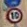limite 10: (5, 7, 22, 23)
limite 30: (6, 7, 22, 23)
